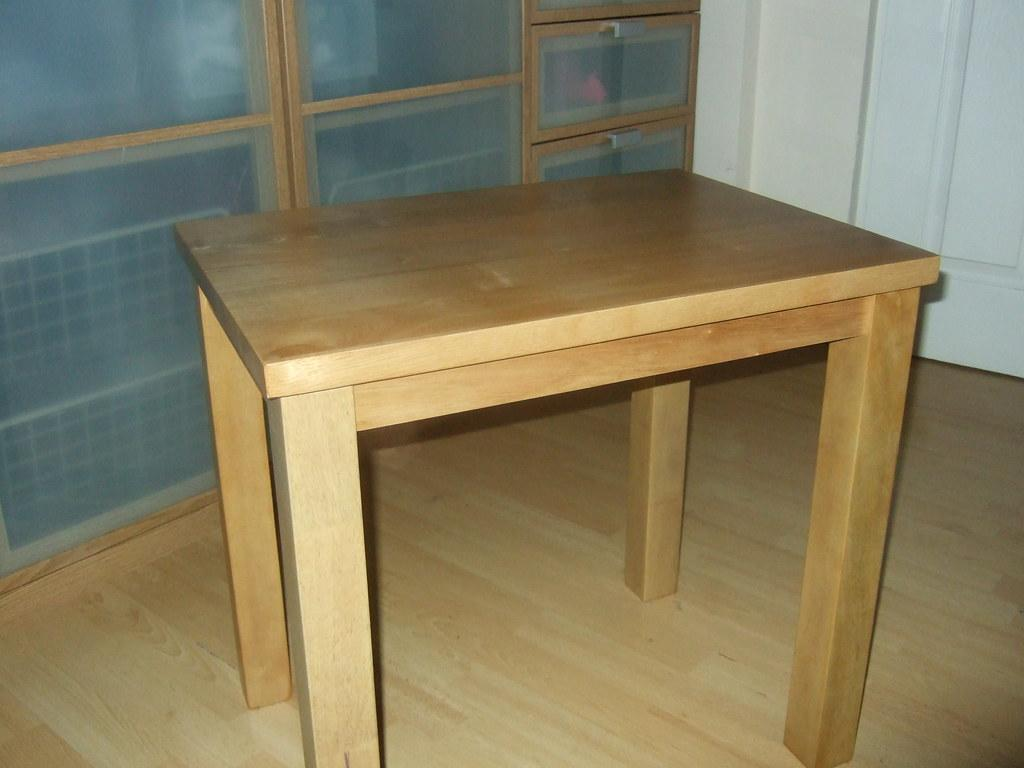table: (145, 149, 950, 768)
